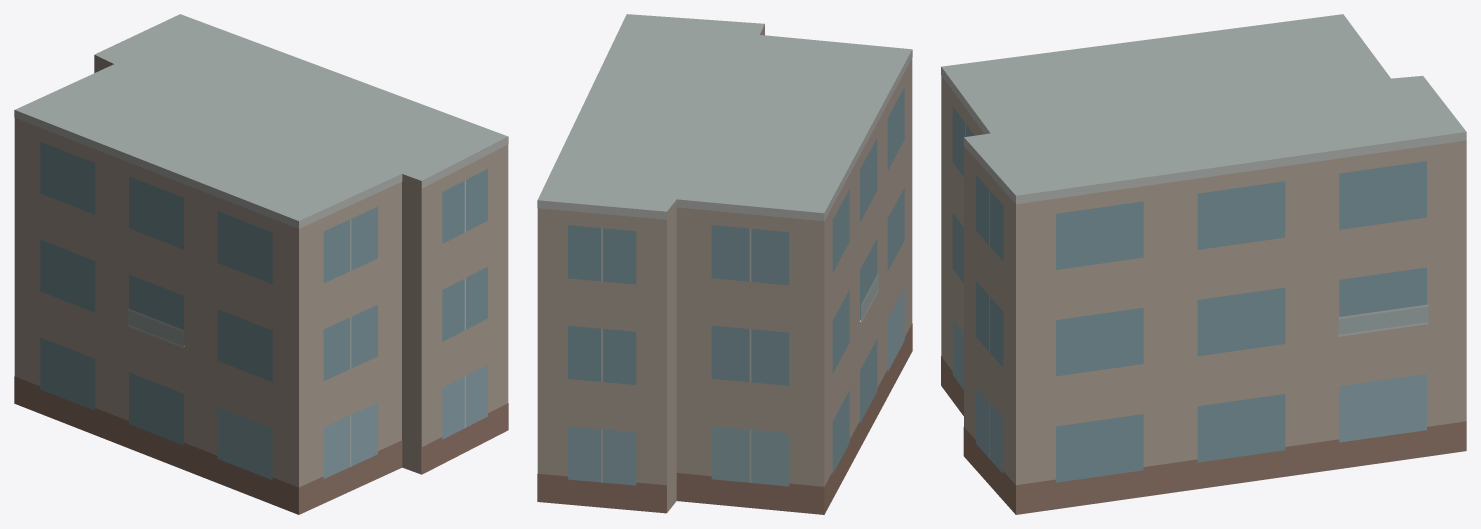
The model's file is survey-upis-32612696.glb.
3 renders of one model, left to right at view 1: azimuth 30°, elevation 25°; view 2: azimuth 150°, elevation 25°; view 3: azimuth 270°, elevation 25°, orthographic. The views are drawn at different scales.
Visible parts, largest first — view 1: survey-upis-32612696.tmp; view 2: survey-upis-32612696.tmp; view 3: survey-upis-32612696.tmp.
Part boxes in pixels (box(x1,y1,x2,y2)): survey-upis-32612696.tmp: box(14, 14, 508, 514); survey-upis-32612696.tmp: box(537, 14, 912, 514); survey-upis-32612696.tmp: box(941, 14, 1466, 514).
Size of the model in its own units: 11.2 by 9.15 by 13.67.
